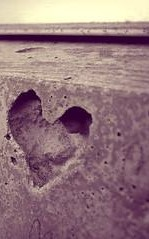Spalling: (5, 88, 93, 187)
